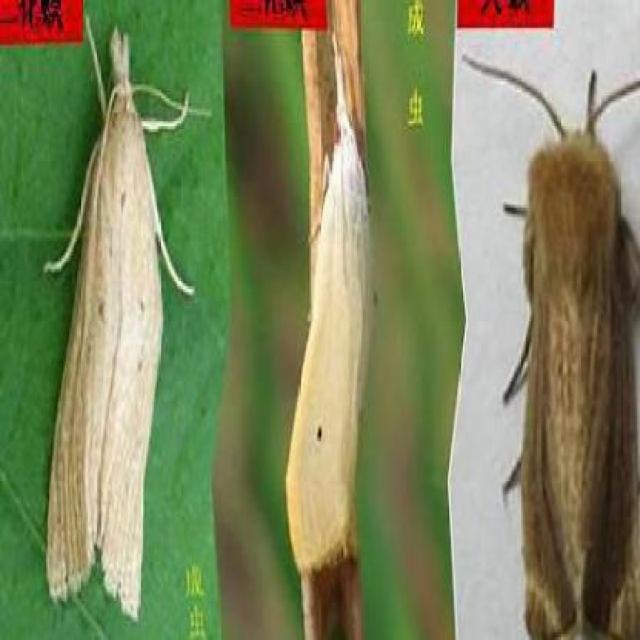stem-borer: (39, 22, 214, 626), (466, 51, 640, 640), (284, 36, 376, 575)
